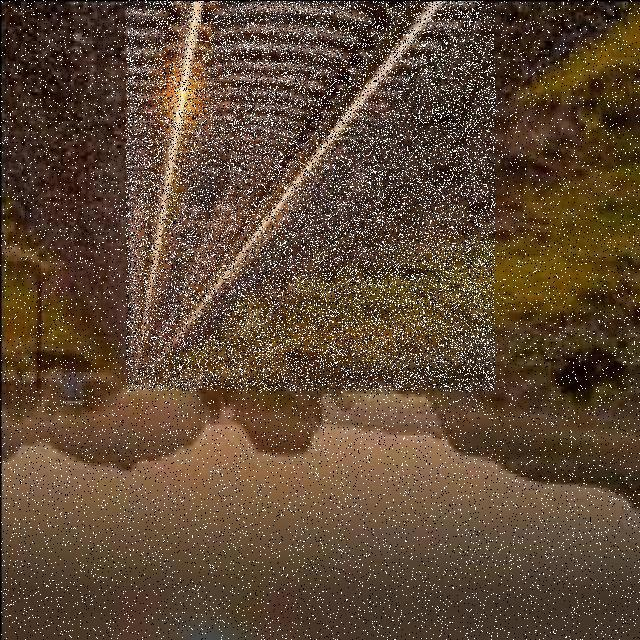rail: (127, 2, 496, 392)
